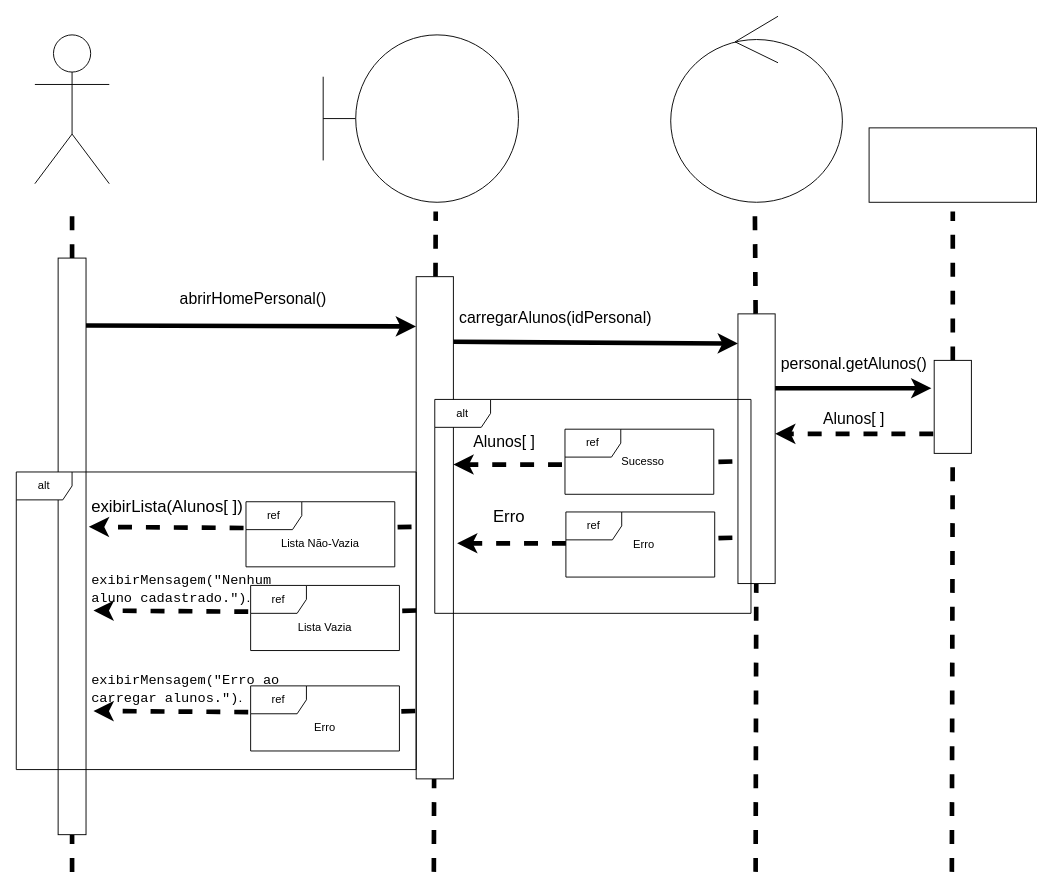
This 1053x891 diagram has some shape labels left out. Here are the shapes that lost their labels. From the top down, the centre of each, then its label:
point (71, 109): Personal
point (420, 118): HomePersonalView
point (756, 108): DashboardPersonalControl
point (952, 164): personal:Personal
